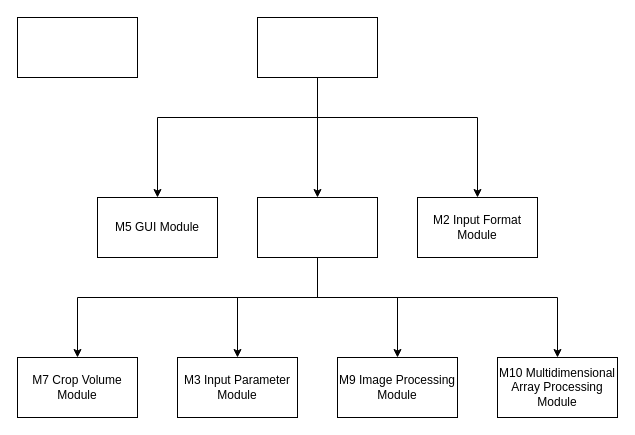
Image size: 635x435. Some labels were removed from this diagram. The shapes that lost their labels are listed below. From the top down, each one's box as (x1, y1, x2, y2) in pixels, then its label:
(16, 16, 138, 78): M6 Volume Visulization Module
(256, 16, 378, 78): M4 Control Module
(256, 196, 378, 258): M8 Aorta Segmentation Module
